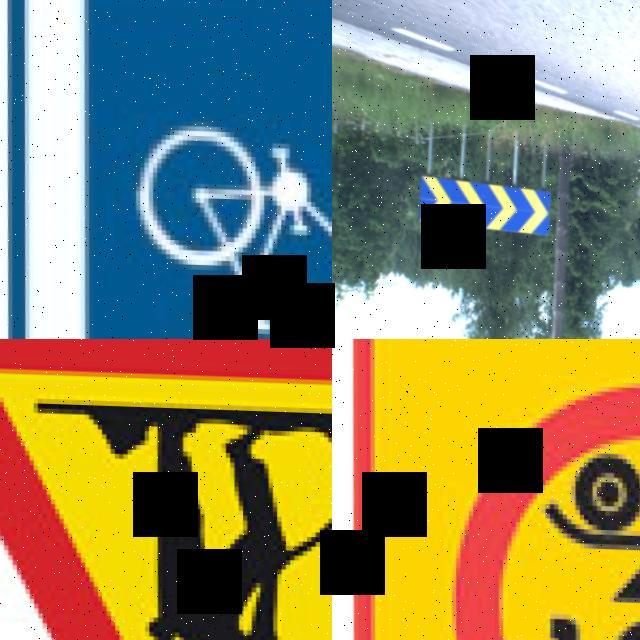164: (0, 339, 332, 640)
17: (0, 0, 332, 339)
181: (408, 164, 554, 245)
82: (332, 339, 640, 640)
Marking for sharp bends: (412, 168, 552, 248)
